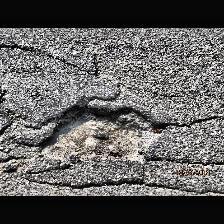pothole: (37, 101, 169, 163)
